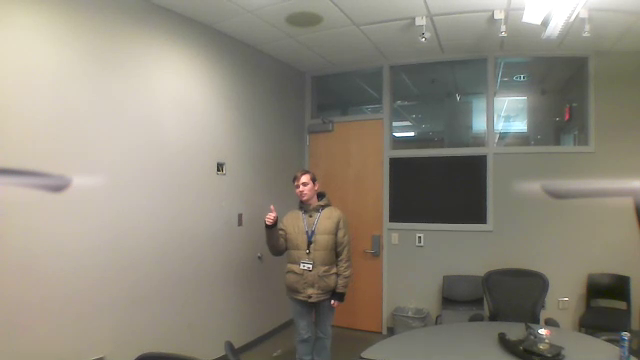up: (262, 203, 282, 228)
